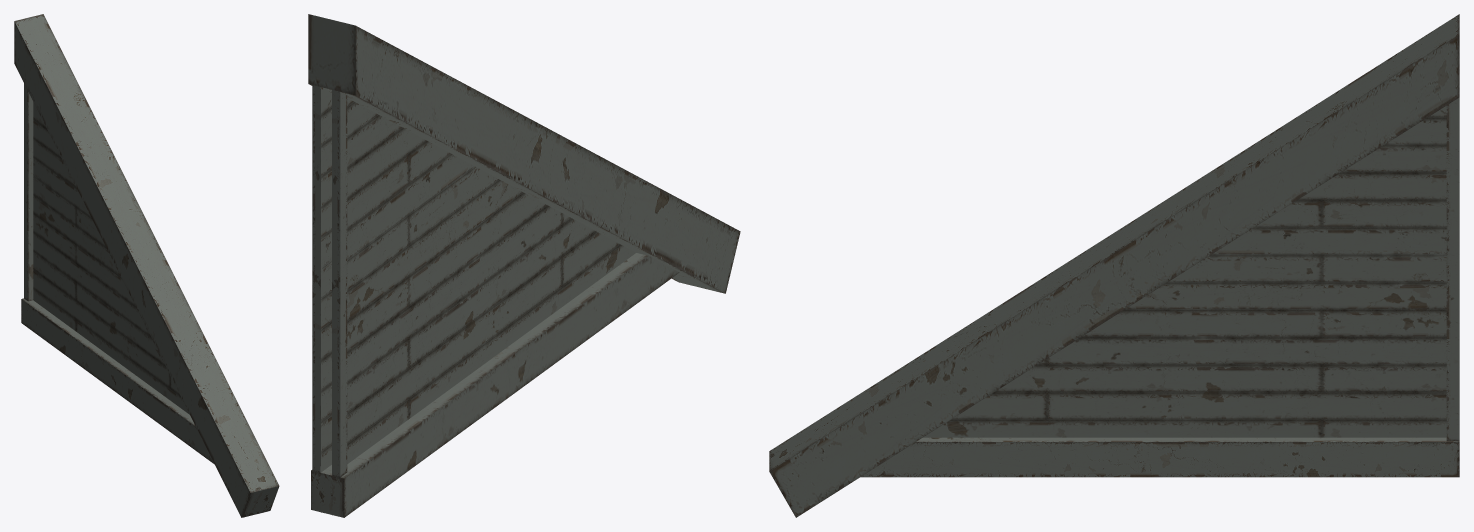
The model's file is SM_Roof400EndRight.FBX.
The picture shows the model from 3 angles, left to right: view 1: azimuth 30°, elevation 25°; view 2: azimuth 150°, elevation 25°; view 3: azimuth 270°, elevation 25°; orthographic projection. The views are drawn at different scales.
Visible parts, largest first — view 1: SM_Roof400EndRight; view 2: SM_Roof400EndRight; view 3: SM_Roof400EndRight.
Boxes of the visible parts, x1,y1,x2,y2 form: SM_Roof400EndRight: [14, 14, 279, 517]; SM_Roof400EndRight: [308, 14, 740, 517]; SM_Roof400EndRight: [769, 14, 1459, 517].
Bounding box in the file's own units: 35.56 × 388 × 502.
